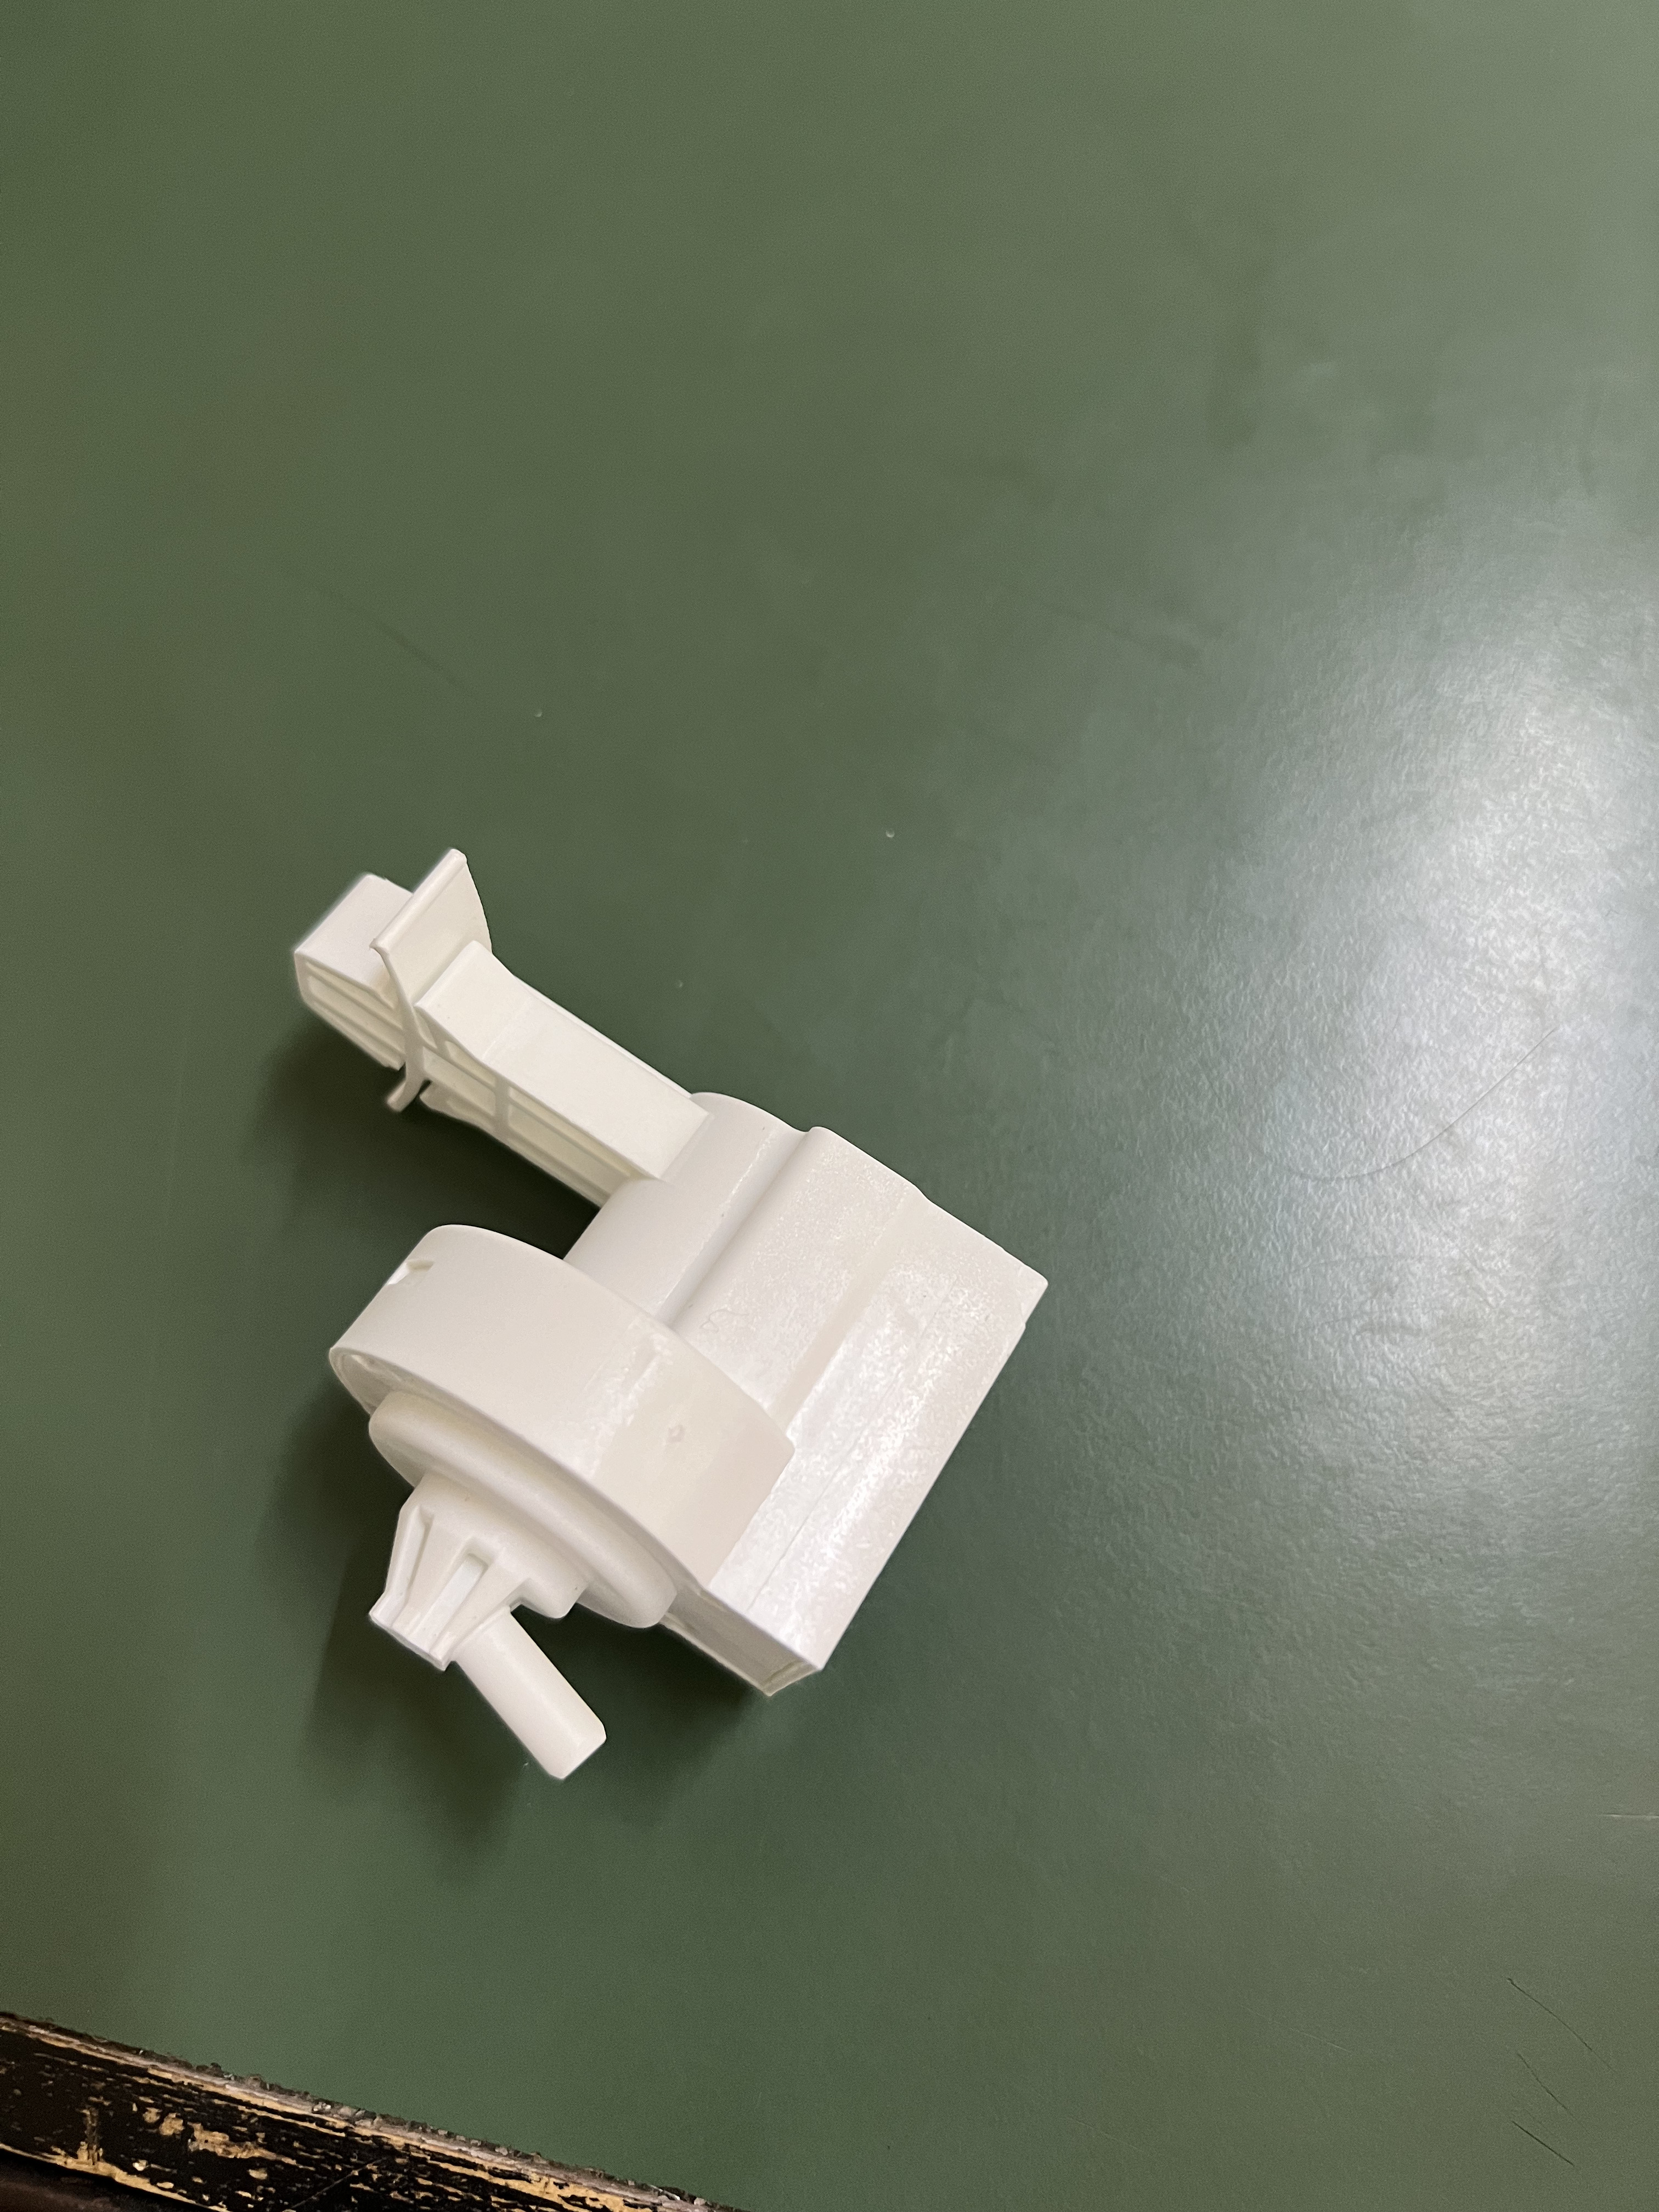pressure_switch_1: (179, 836, 1073, 1750)
